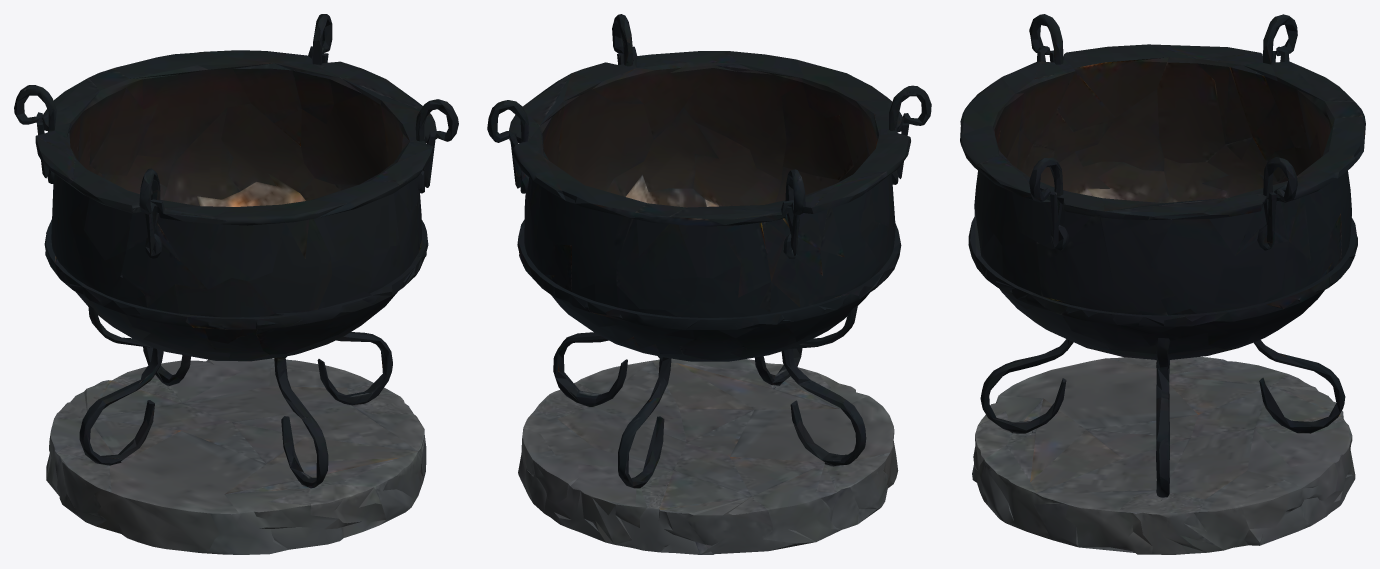
Rendered from brazier.glb.
The picture shows the model from 3 angles, left to right: view 1: azimuth 30°, elevation 25°; view 2: azimuth 150°, elevation 25°; view 3: azimuth 270°, elevation 25°; orthographic projection.
Size of the model in its own units: 1.79 by 1.9 by 1.8.
1 material, 1 textured.
